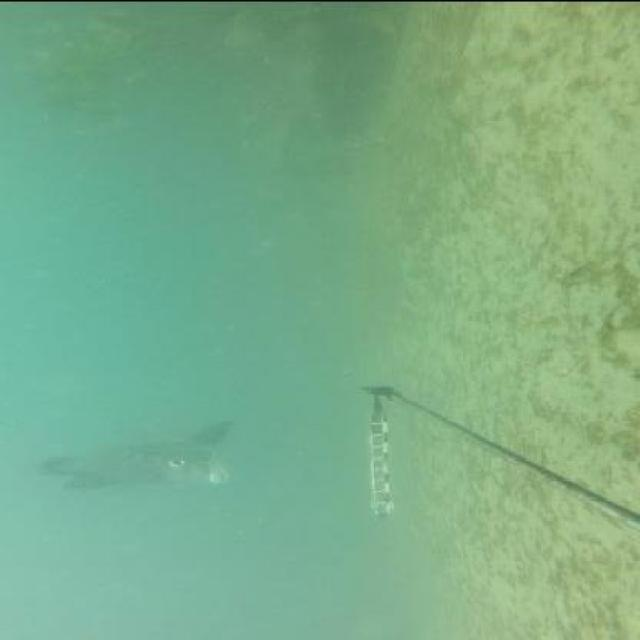acanthopagrus_palmaris: (32, 416, 245, 489)
